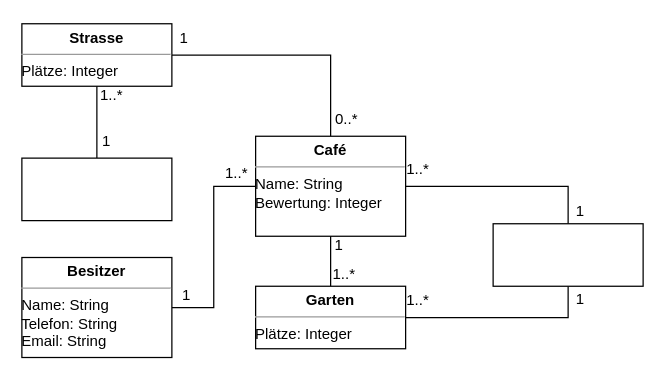
This 665x380 diagram has some shape labels left out. Each missing label, with the box of its shape:
Betriebszeit Typ: (492, 222, 643, 286)
Strassenart Typ: (21, 157, 172, 221)
